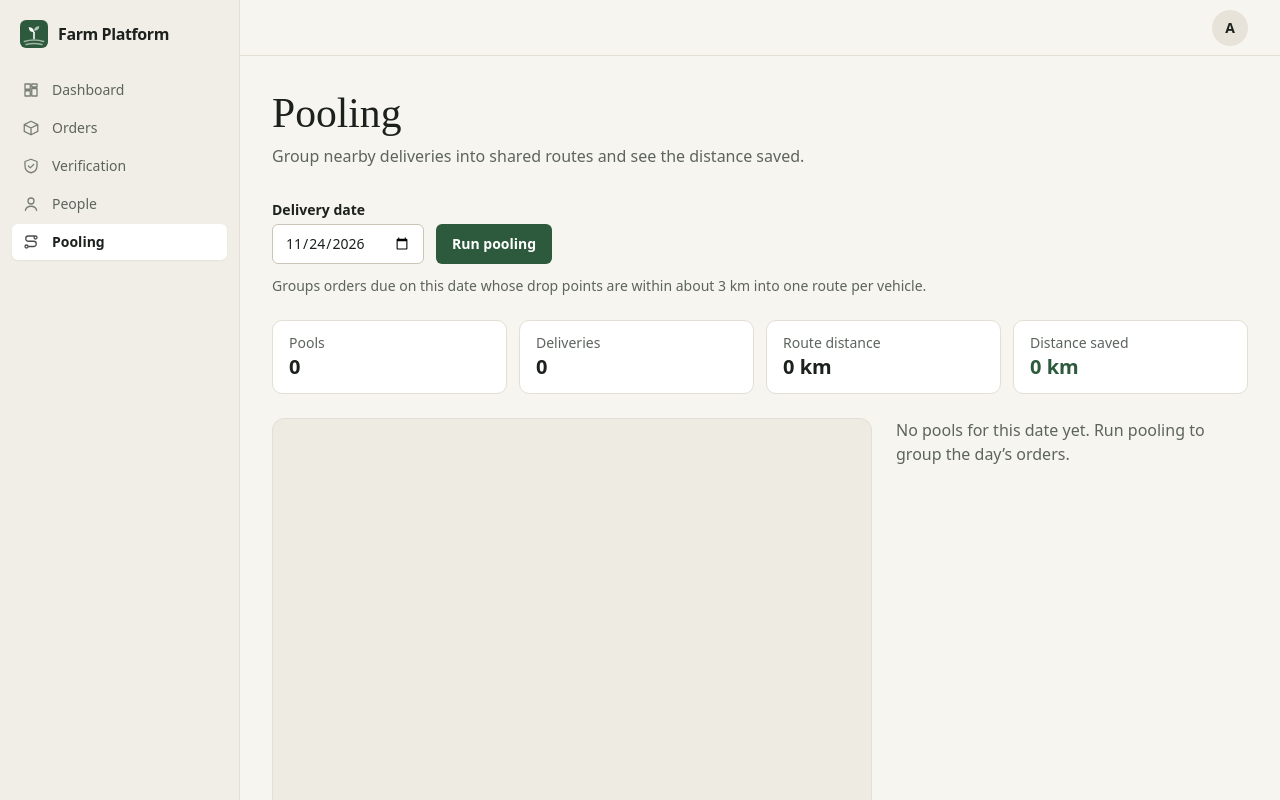
Test: pooling › runs pooling for the chosen date with the date in the query
Check: the text "No pools for this date yet" is shown, box [896,419,1205,465]
Click the button "Run pooling" at point(494, 244), box [436,224,552,264]
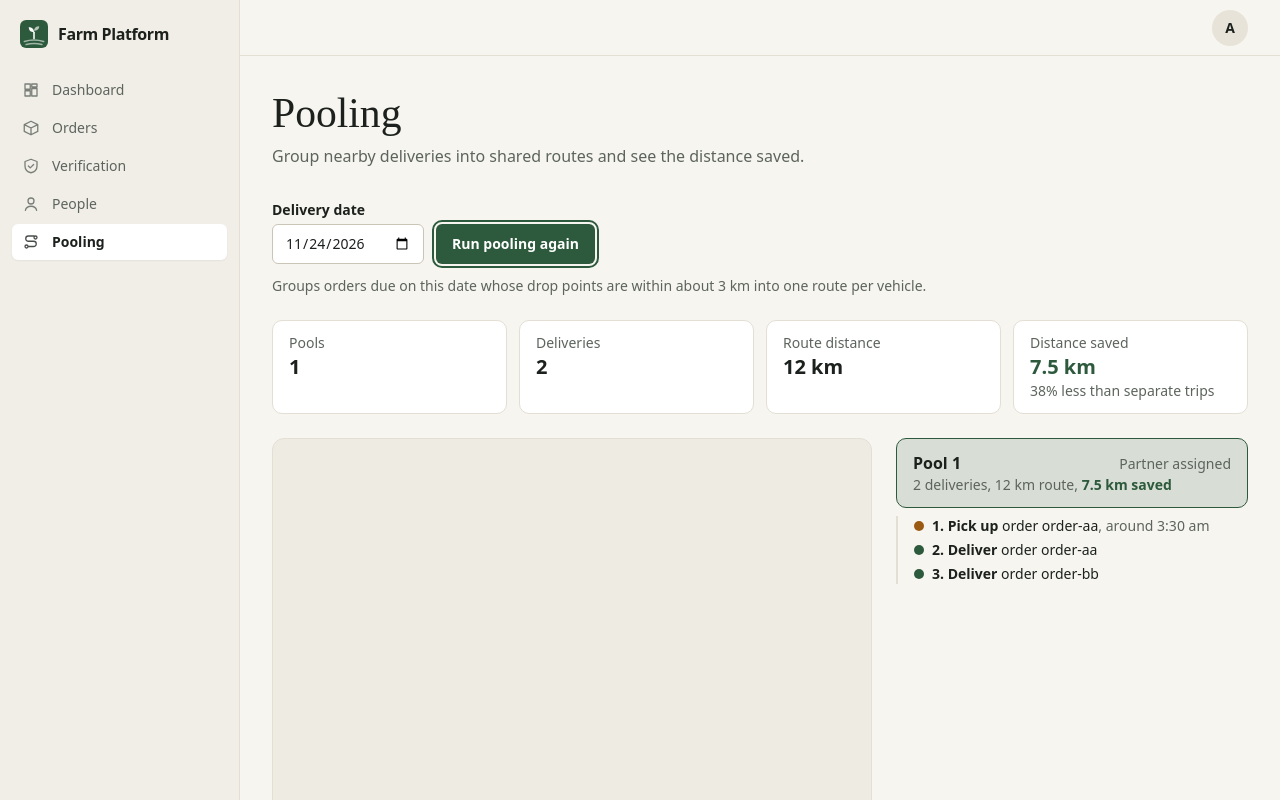
Check: the list named "Stops in order" is shown, box [896,516,1248,584]
